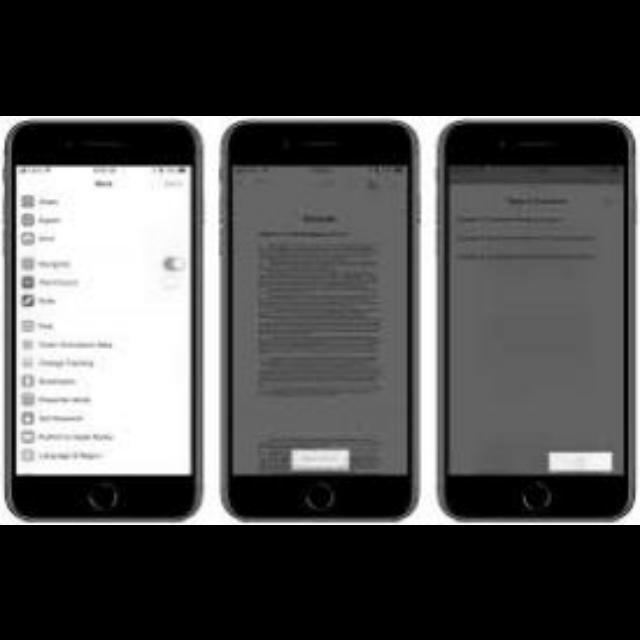fake: (216, 118, 424, 525), (434, 122, 637, 524), (7, 130, 211, 516)
